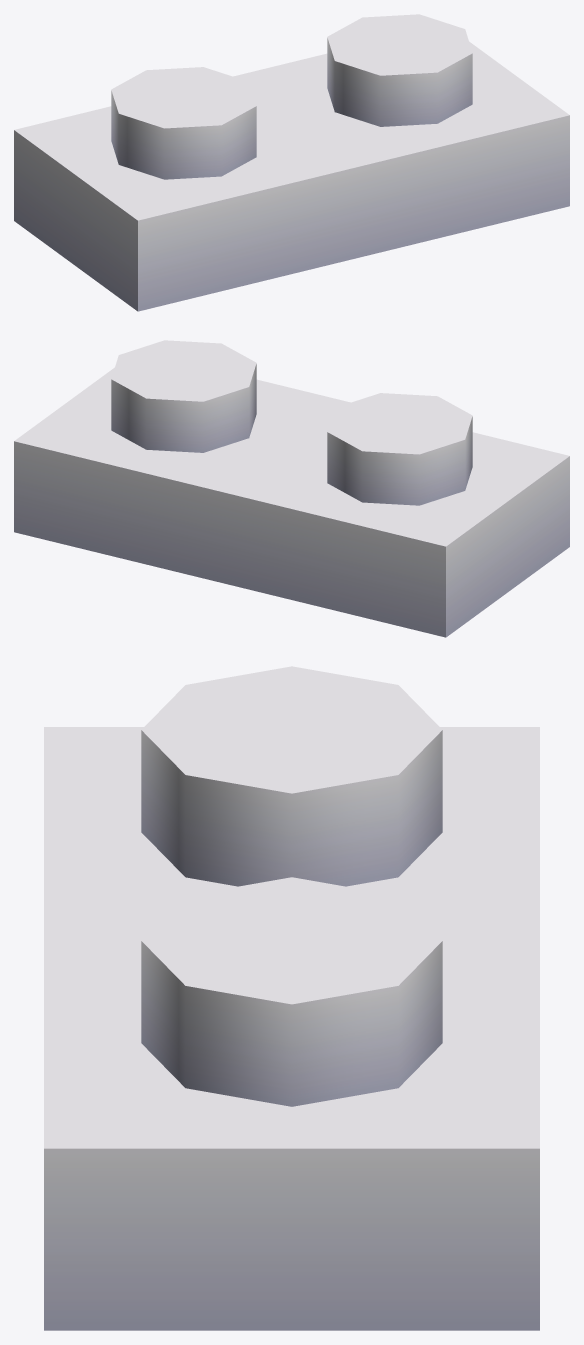
The model's file is kenney-brick-round-lq-plate-1-x-2.glb.
3 views of the same model, one above another, from view 1: azimuth 30°, elevation 25°; view 2: azimuth 150°, elevation 25°; view 3: azimuth 270°, elevation 25° (orthographic). The views are drawn at different scales.
Visible parts, largest first — view 1: round-lq-plate-1x2; view 2: round-lq-plate-1x2; view 3: round-lq-plate-1x2.
Boxes of the visible parts, left/top/right/bottom form: round-lq-plate-1x2: left=14, top=14, right=569, bottom=311; round-lq-plate-1x2: left=14, top=340, right=569, bottom=637; round-lq-plate-1x2: left=44, top=666, right=539, bottom=1330.
Size of the model in its own units: 0.159 by 0.05 by 0.079.
Materials: 1 (1 with a texture image).
